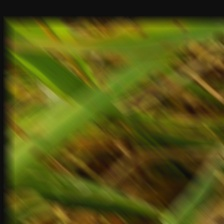Bacterial_Leaf_Blight: (27, 147, 45, 160), (134, 26, 149, 37), (174, 23, 187, 31), (98, 84, 111, 91), (175, 218, 184, 224)
